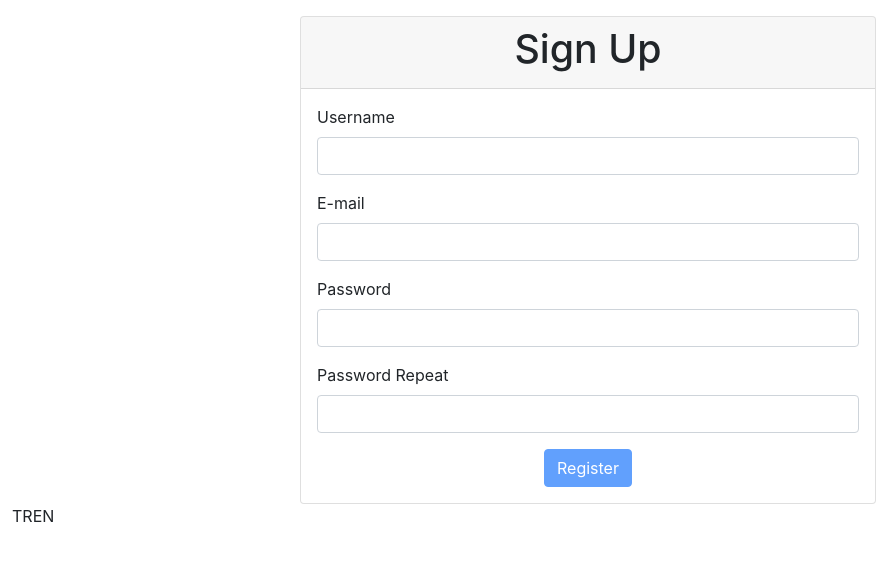
Test: Sign Up Page › Internationalization › Displays password mismatch validation in Turkish
Click the text titled "Turkce". click: (22, 516)
box: [12,506,33,526]
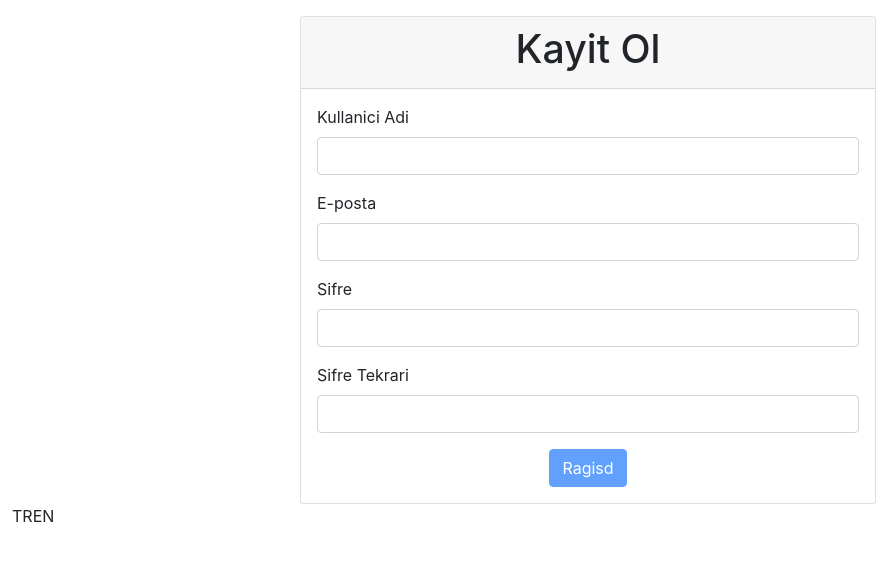
Type "P4ss" into the password field named "Password". click: (588, 328)
box: [317,309,859,347]
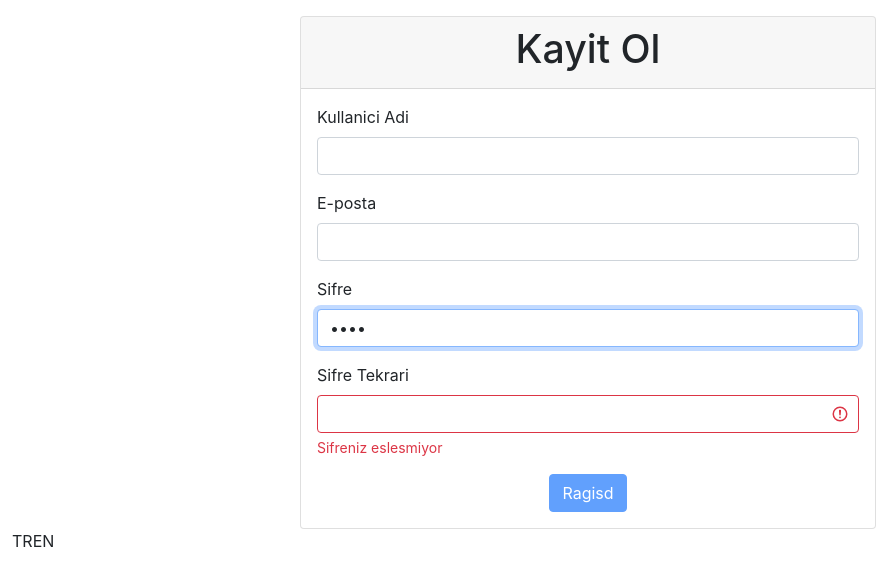
Now the text "Sifreniz eslesmiyor" is shown, box [317,439,442,456]
